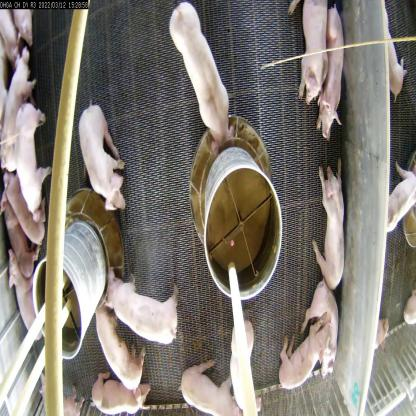Pig: (168, 0, 231, 142), (97, 241, 179, 342), (86, 287, 147, 394), (13, 91, 57, 226), (0, 252, 47, 367), (175, 346, 252, 415), (272, 320, 340, 389), (288, 0, 326, 110), (317, 0, 345, 146), (316, 160, 350, 280), (304, 281, 337, 394), (231, 303, 264, 411), (90, 370, 147, 415)
